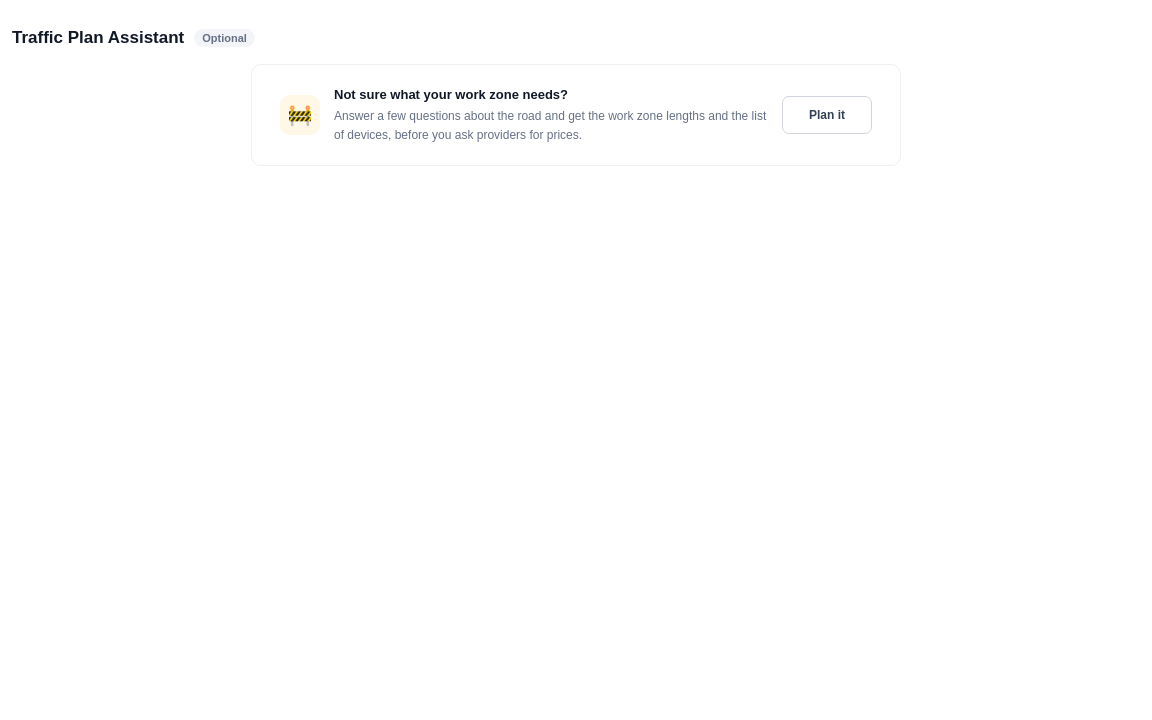
Test: AiTrafficPlan › يعرض الخطة كاملة بدون AI (بدون ✨)
Click the button "Plan it" at (827, 115), box [782, 96, 872, 134]
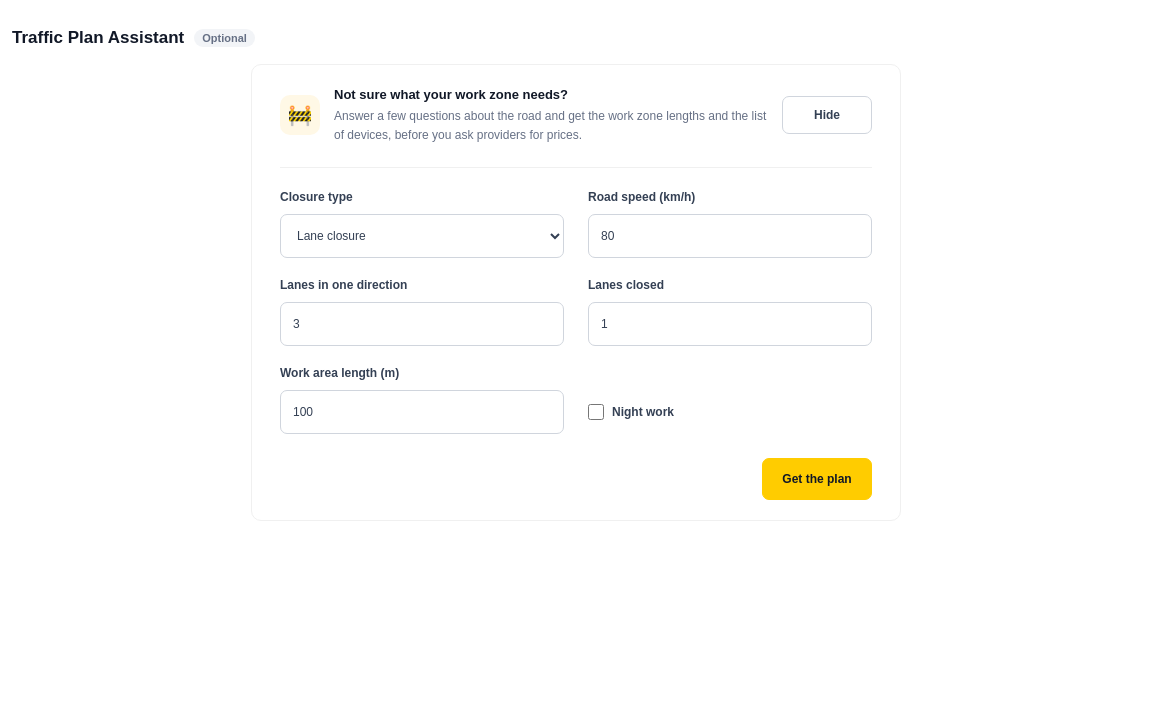
Click the button "Get the plan" at (817, 479), box [762, 458, 872, 500]
(page scrolled)
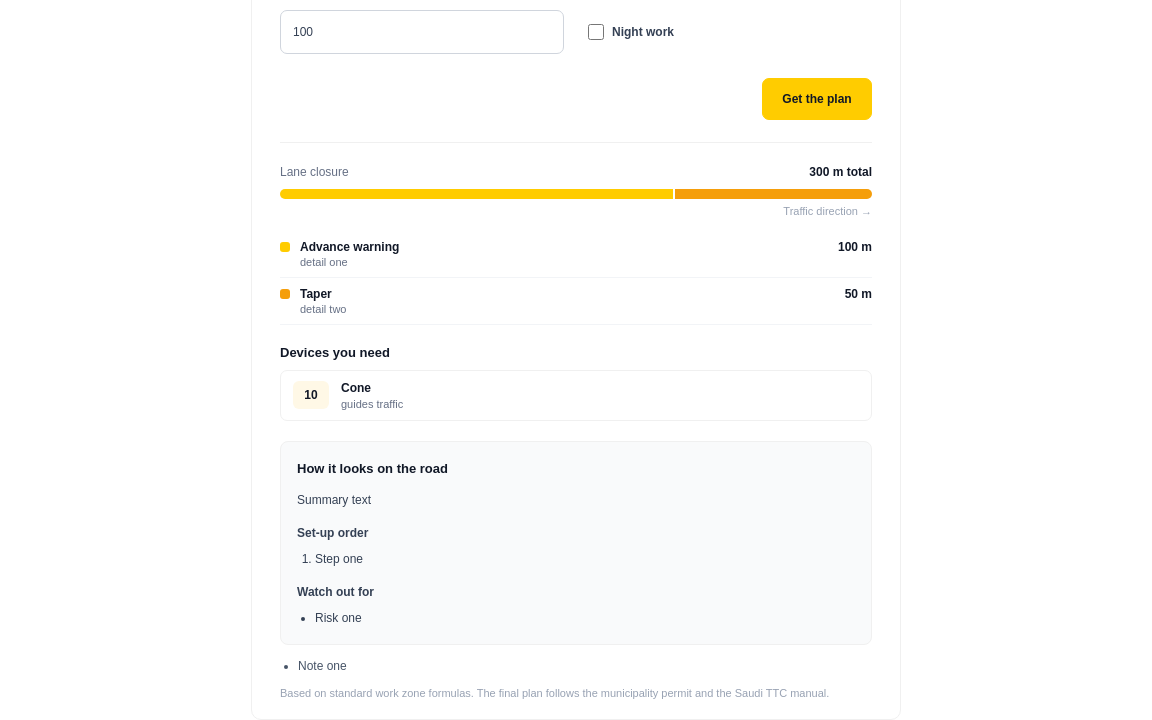
Expected: the text "300 m total" is shown, [809, 165, 872, 179]
Expected: the text "Advance warning" is shown, [300, 240, 399, 254]
Expected: the text "detail two" is shown, [300, 303, 346, 315]
